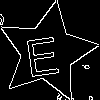E: (22, 27, 61, 78)
